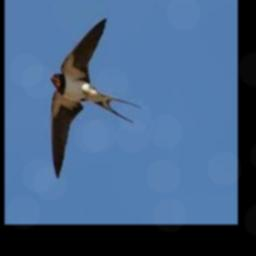Swallow: (48, 18, 140, 179)
